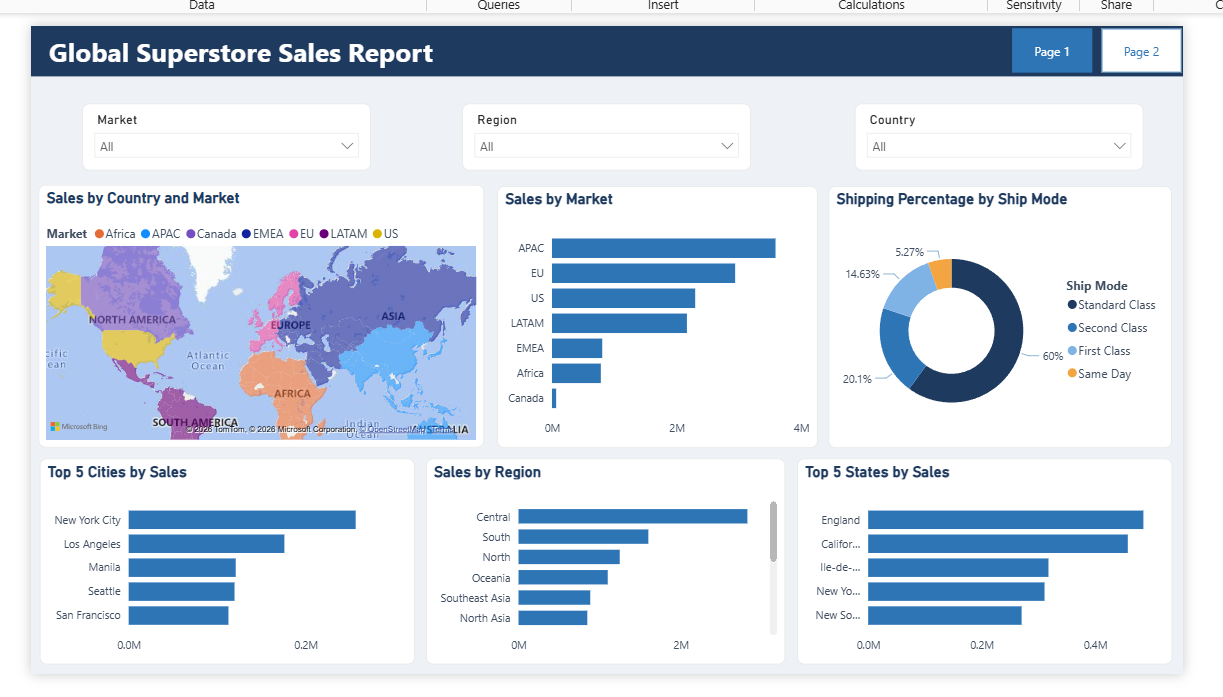

What the dashboard file says about the page in this screenshot:
{"tool":"powerbi","page":{"name":"Page 1","canvas":[1280,720],"ordinal":0},"visuals":[{"type":"clusteredBarChart","title":"Sales by Market","fields":{"Category":["Orders.Market"],"Y":["Sum(Orders.Sales)"]},"box":[518.3,178,356.1,291.5],"z":0},{"type":"clusteredBarChart","title":" Sales by Region","fields":{"Category":["Orders.Region"],"Y":["Sum(Orders.Sales)"]},"box":[439.1,480.3,399.3,229.2],"z":1000},{"type":"filledMap","title":"Sales by Country and Market","fields":{"Category":["Orders.Country"],"Series":["Orders.Market"]},"box":[8.2,177,495.4,292.3],"z":2000},{"type":"slicer","fields":{"Values":["Orders.Market"]},"box":[57.3,86.6,320.7,74.4],"z":3000},{"type":"slicer","fields":{"Values":["Orders.Region"]},"box":[479.3,86.6,320.7,74.4],"z":4000},{"type":"slicer","fields":{"Values":["Orders.Country"]},"box":[914.6,86.6,320.7,74.4],"z":5000},{"type":"donutChart","title":"Shipping Percentage by Ship Mode","fields":{"Category":["Orders.Ship Mode"],"Y":["CountNonNull(Orders.Row ID)"]},"box":[886.6,178,381.7,291.5],"z":6000},{"type":"clusteredBarChart","title":"Top 5 States by Sales","fields":{"Category":["Orders.State"],"Y":["Sum(Orders.Sales)"]},"box":[850.8,480.3,417.2,229.2],"z":7000},{"type":"clusteredBarChart","title":"Top 5 Cities by Sales","fields":{"Y":["Sum(Orders.Sales)"],"Category":["Orders.City"]},"box":[8.2,480.3,417.2,229.2],"z":8000},{"type":"textbox","title":"             Global Superstore Sales Report","box":[0,0,1280.5,56.1],"z":9000},{"type":"pageNavigator","box":[1090.9,2.7,189.4,49.4],"z":10000}]}

Visuals, with their boxes on the page's 1280x720 design canvas (x1, y1, x2, y2). These are canvas units, not pixel positions in the 1223x697 screenshot, which may show the page scaled, cropped or inside an application window:
"Sales by Market" clusteredBarChart: <region>518, 178, 874, 470</region>
" Sales by Region" clusteredBarChart: <region>439, 480, 838, 710</region>
"Sales by Country and Market" filledMap: <region>8, 177, 504, 469</region>
slicer - Orders.Market: <region>57, 87, 378, 161</region>
slicer - Orders.Region: <region>479, 87, 800, 161</region>
slicer - Orders.Country: <region>915, 87, 1235, 161</region>
"Shipping Percentage by Ship Mode" donutChart: <region>887, 178, 1268, 470</region>
"Top 5 States by Sales" clusteredBarChart: <region>851, 480, 1268, 710</region>
"Top 5 Cities by Sales" clusteredBarChart: <region>8, 480, 425, 710</region>
"             Global Superstore Sales Report" textbox: <region>0, 0, 1280, 56</region>
pageNavigator: <region>1091, 3, 1280, 52</region>
